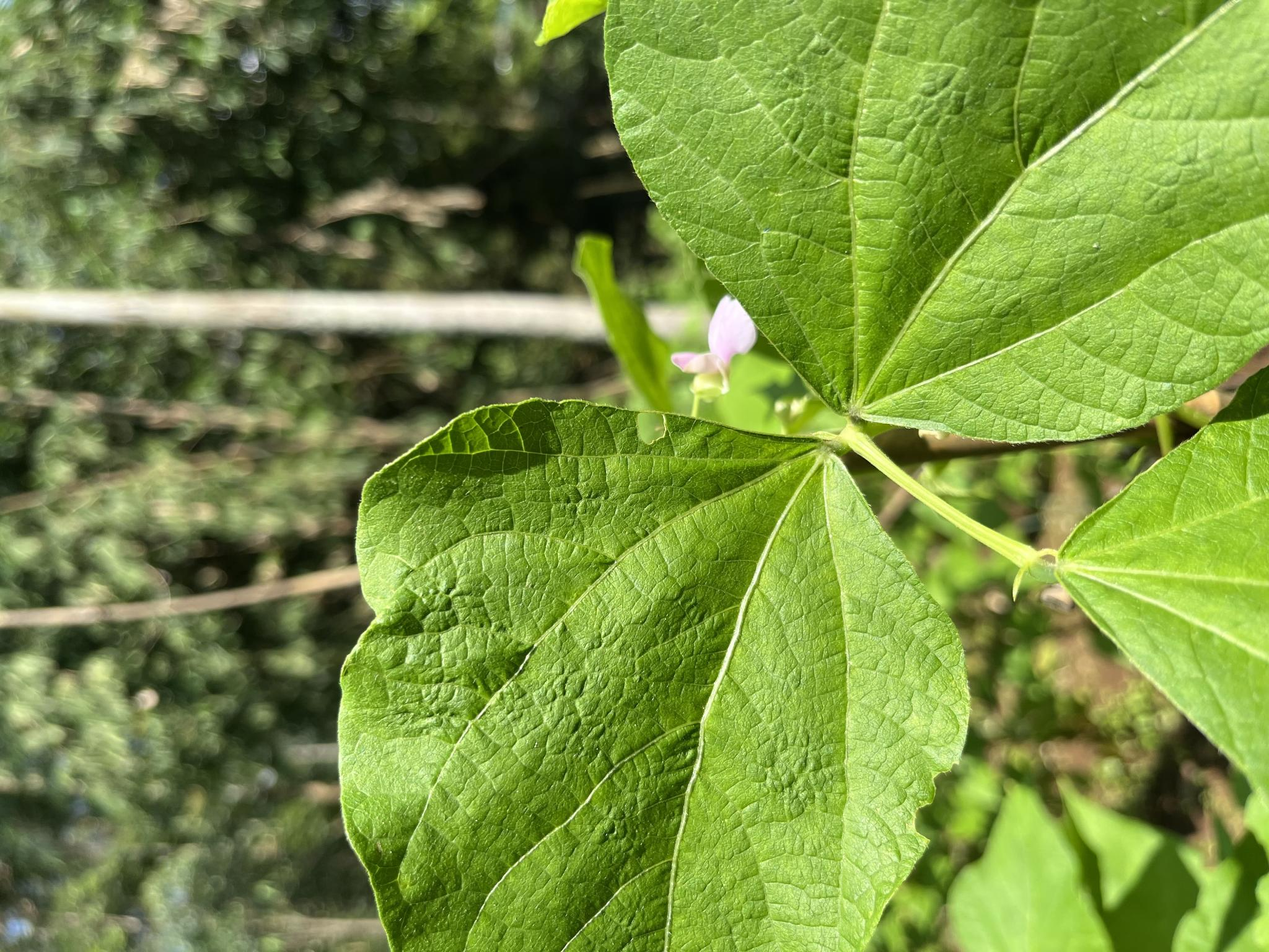mozaik: (913, 757, 969, 846), (626, 409, 669, 449)
